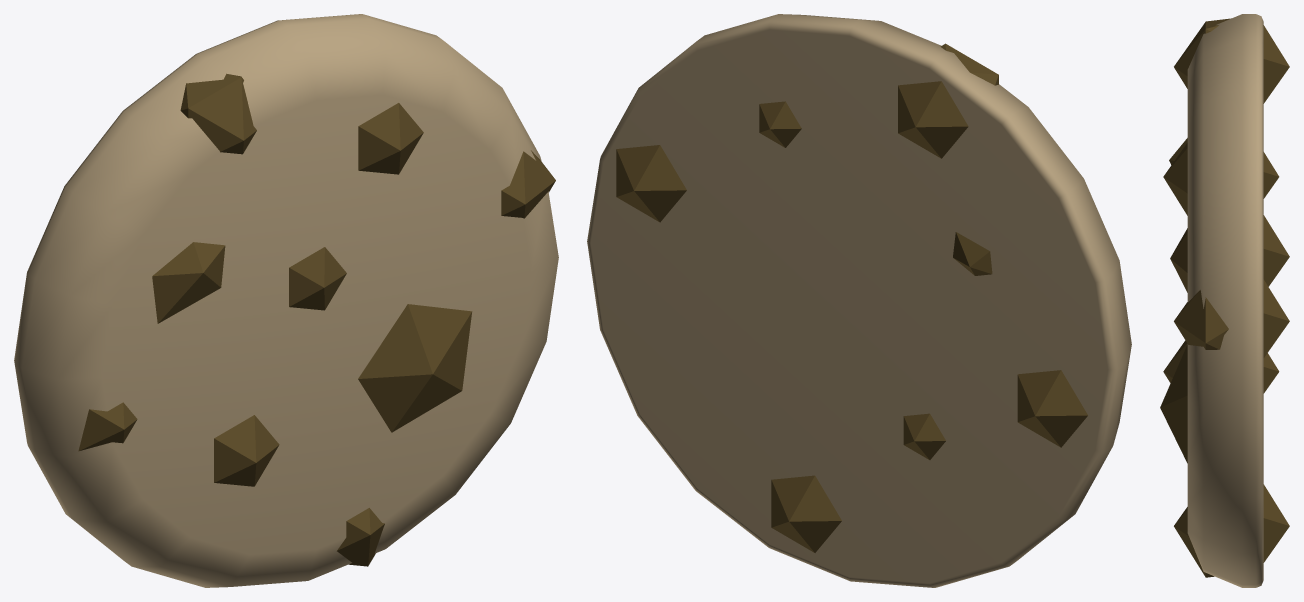
The model's file is SM_Cookie.fbx.
3 renders of one model, left to right at view 1: azimuth 30°, elevation 25°; view 2: azimuth 150°, elevation 25°; view 3: azimuth 270°, elevation 25°, orthographic. The views are drawn at different scales.
Visible parts, largest first — view 1: pPlatonic10; view 2: pPlatonic10; view 3: pPlatonic10.
Part boxes in pixels (box(x1,y1,x2,y2)): pPlatonic10: box(14, 14, 558, 587); pPlatonic10: box(587, 14, 1131, 587); pPlatonic10: box(1160, 14, 1289, 587).
Size of the model in its own units: 65.34 by 65.34 by 14.67.
